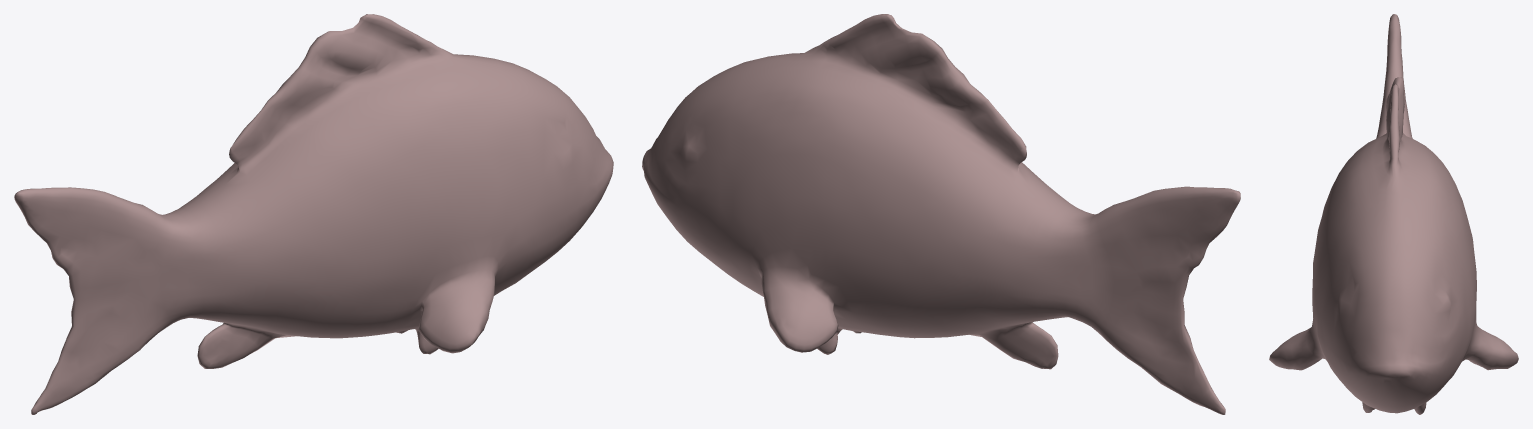
File: Fish_01.fbx
The picture shows the model from 3 angles, left to right: view 1: azimuth 30°, elevation 25°; view 2: azimuth 150°, elevation 25°; view 3: azimuth 270°, elevation 25°; orthographic projection. The views are drawn at different scales.
Parts seen in each view (by area): view 1: Fish_01_LowPoly; view 2: Fish_01_LowPoly; view 3: Fish_01_LowPoly.
Part boxes in pixels (<box>): Fish_01_LowPoly: <box>14,14,613,414</box>; Fish_01_LowPoly: <box>642,14,1240,414</box>; Fish_01_LowPoly: <box>1269,14,1518,414</box>.
Bounding box in the file's own units: 99.12 × 54.37 × 39.92.
